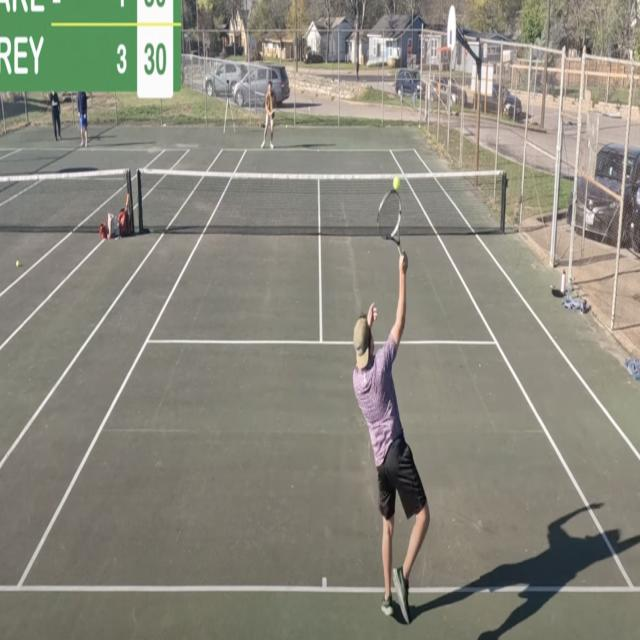ball: (392, 175, 400, 191), (15, 258, 19, 268), (418, 123, 421, 130), (285, 124, 288, 130)
